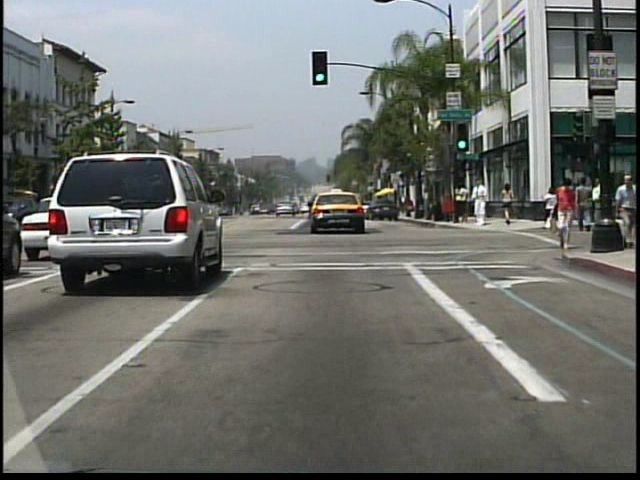person: (550, 177, 582, 250), (613, 177, 637, 252), (580, 174, 603, 242), (573, 177, 590, 232), (542, 185, 559, 230), (473, 180, 489, 227), (499, 182, 515, 225), (456, 179, 467, 224)
